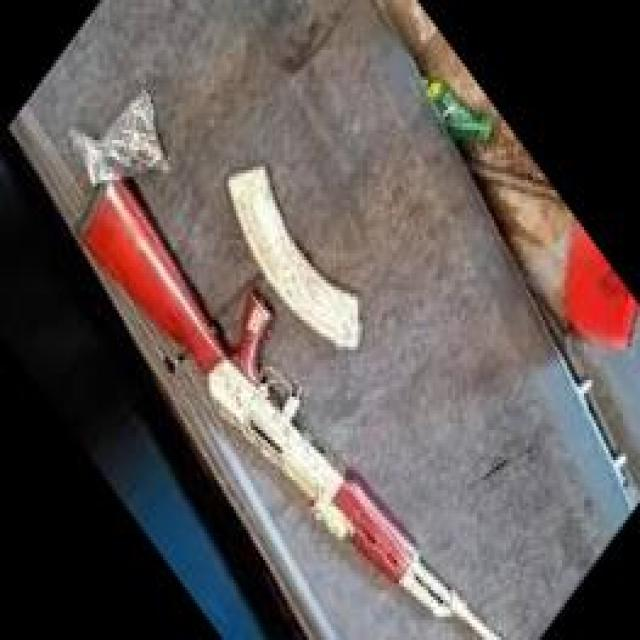weapon: (73, 160, 501, 640)
